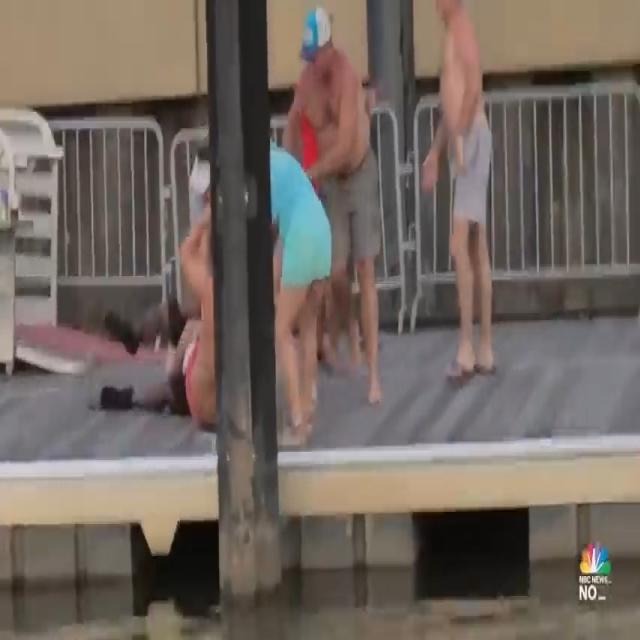fight: (91, 8, 397, 446)
